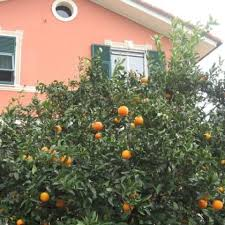orange: (117, 106, 129, 116), (135, 115, 144, 126)
